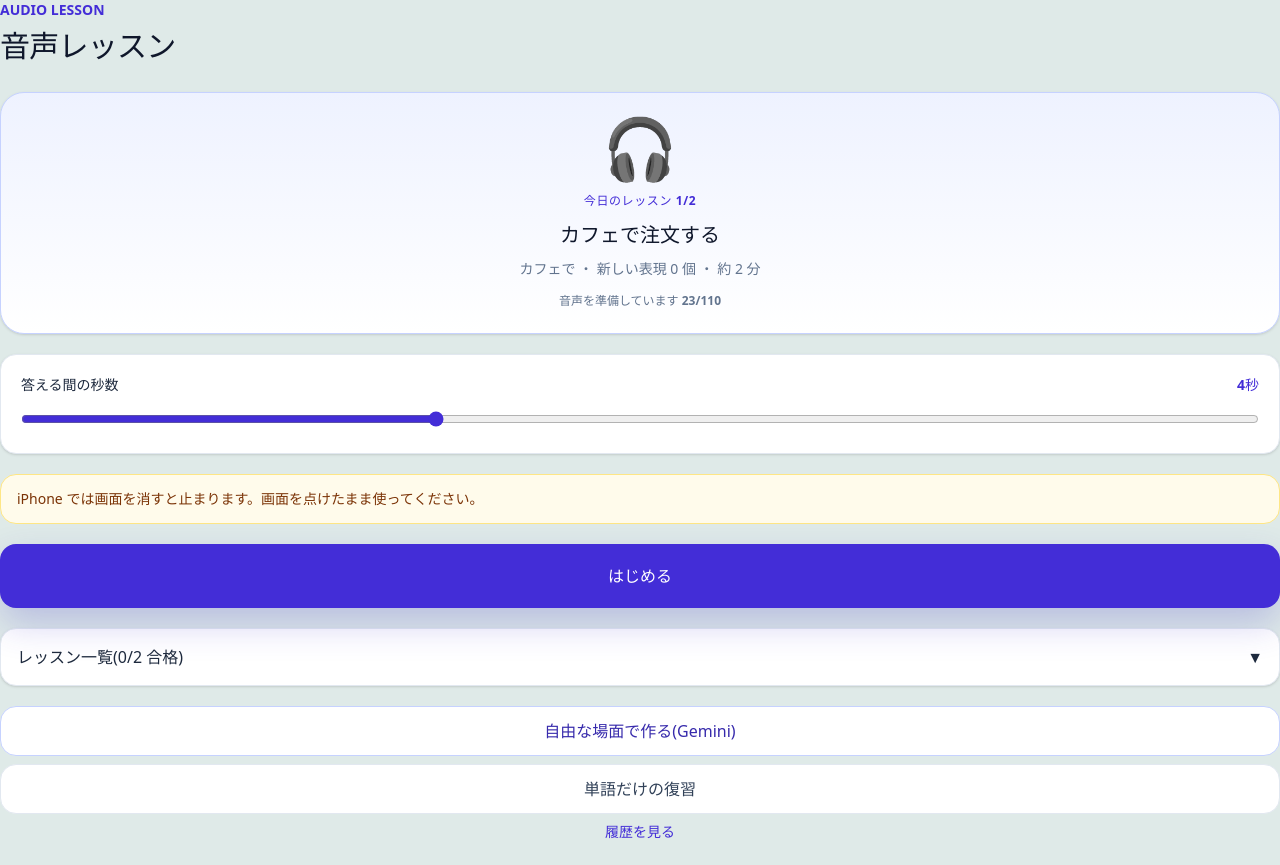
Test case: LessonPage › 同梱レッスンでは「今日のレッスン N/10」と音声の準備、一覧を出す
Expected: the text "今日のレッスン 1/2" is shown, [584,192,696,209]
Expected: the text "音声を準備しています 23/110" is shown, [559,292,721,309]
What coordinates should you click on to do the following:
click the button "レッスン一覧(0/2 合格) ▼"
I would click on:
 (67, 657)
Its box is [17,645,1263,669].
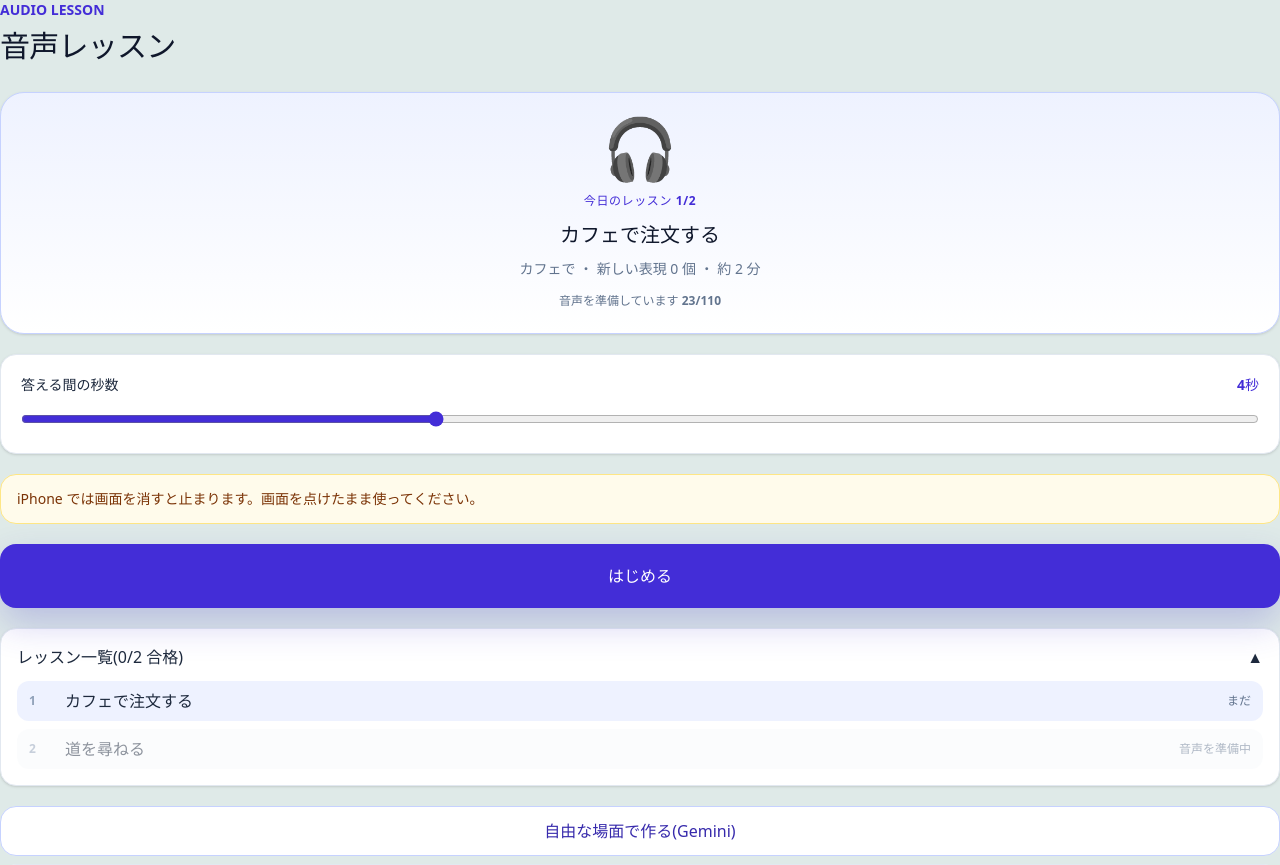
Expected: the text "音声を準備中" is shown, [1179,741,1251,757]
